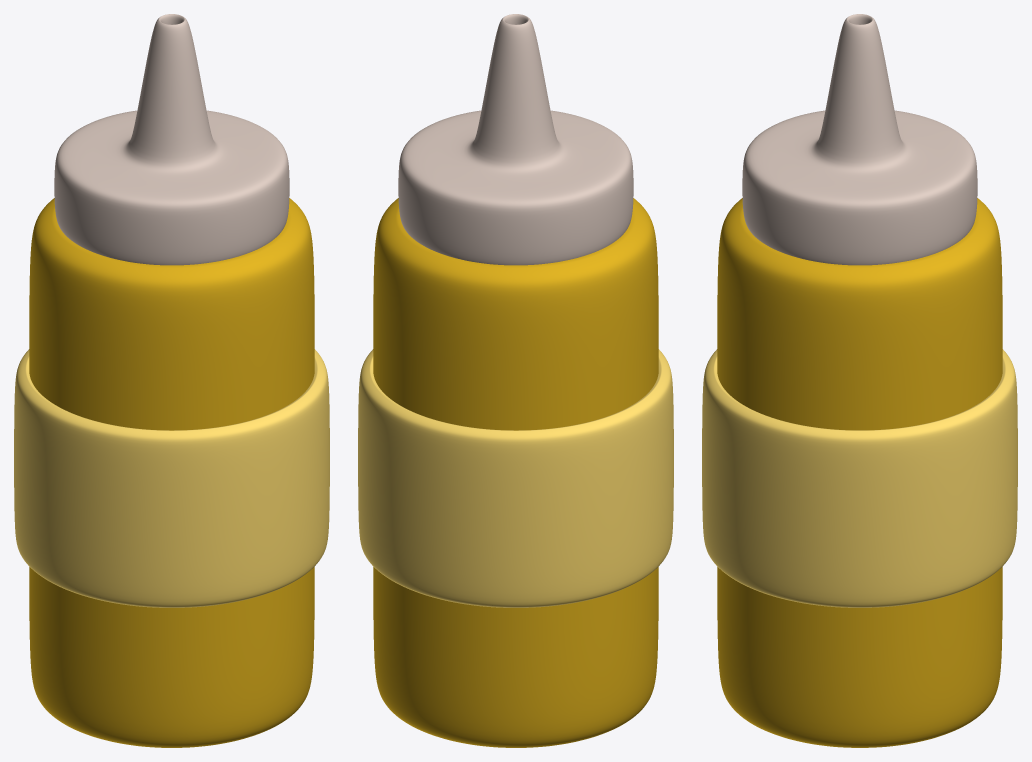
Rendered from MustardBottle.fbx.
The picture shows the model from 3 angles, left to right: view 1: azimuth 30°, elevation 25°; view 2: azimuth 150°, elevation 25°; view 3: azimuth 270°, elevation 25°; orthographic projection.
Parts seen in each view (by area): view 1: MustardBottle_Body, MustardBottle_Label, MustardBottle_Cap; view 2: MustardBottle_Body, MustardBottle_Label, MustardBottle_Cap; view 3: MustardBottle_Body, MustardBottle_Label, MustardBottle_Cap.
Boxes of the visible parts, <box> form: MustardBottle_Body: <box>29,198,314,747</box>; MustardBottle_Label: <box>14,349,329,607</box>; MustardBottle_Cap: <box>54,14,289,265</box>; MustardBottle_Body: <box>373,198,658,747</box>; MustardBottle_Label: <box>358,349,673,607</box>; MustardBottle_Cap: <box>398,14,633,265</box>; MustardBottle_Body: <box>717,198,1002,747</box>; MustardBottle_Label: <box>702,349,1017,607</box>; MustardBottle_Cap: <box>742,14,977,265</box>.
Bounding box in the file's own units: 102 × 242 × 102.
